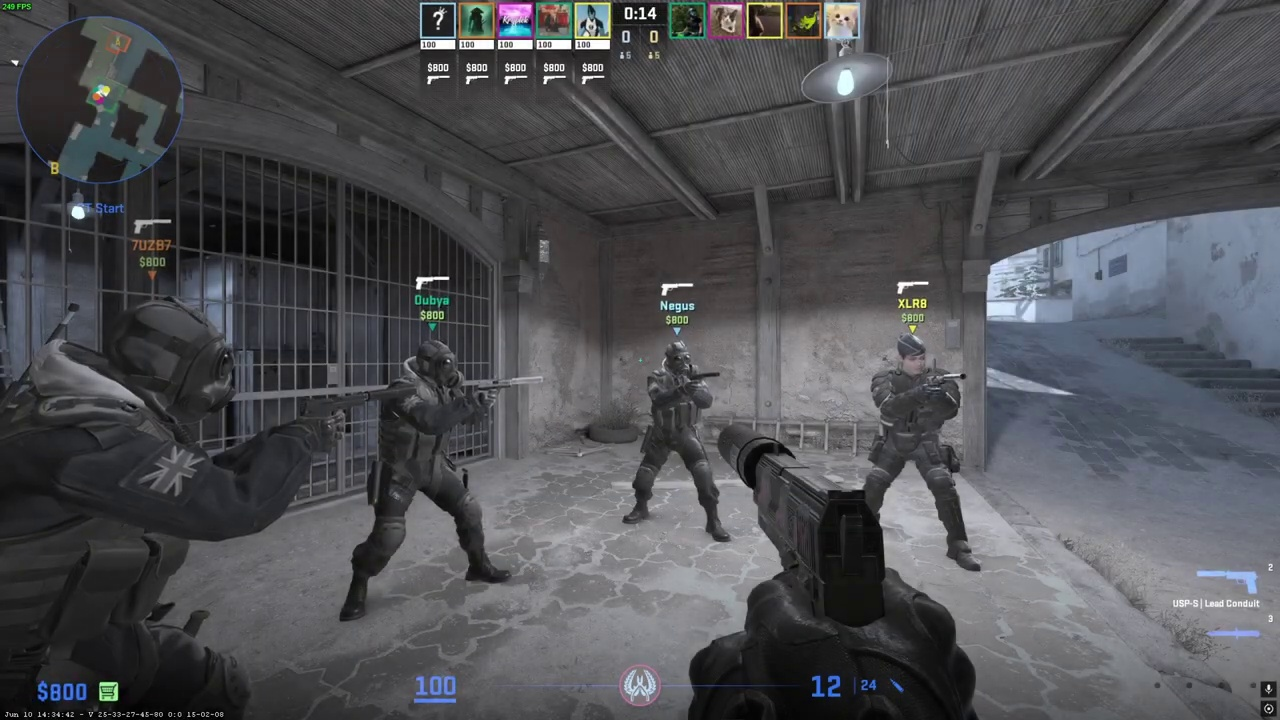CT: (0, 297, 263, 720), (360, 339, 503, 611), (862, 336, 979, 570), (627, 341, 729, 541)
